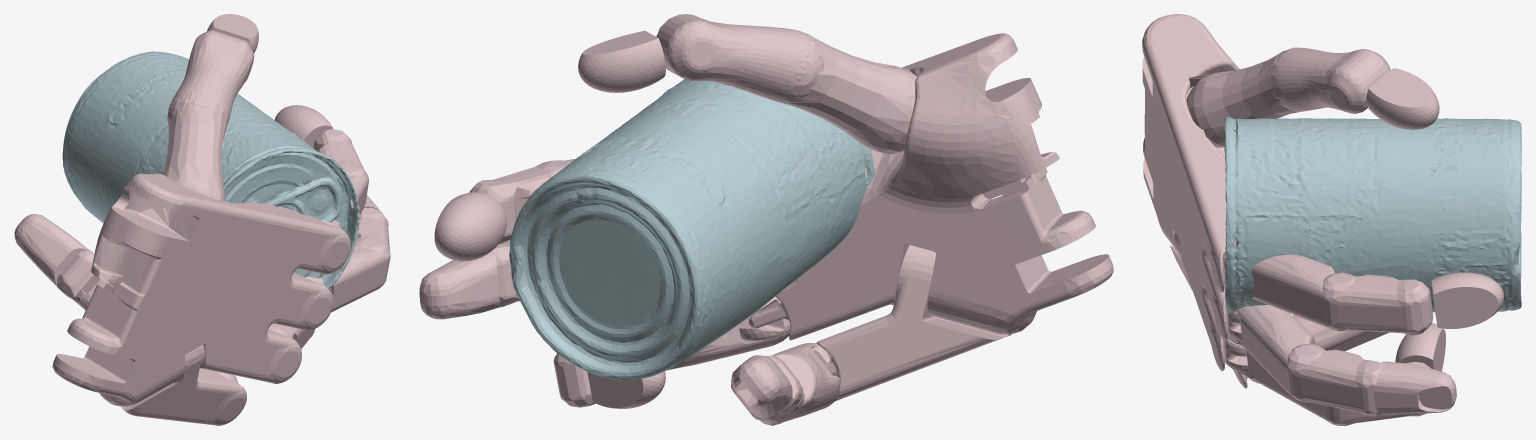
Rendered from grasp_9.glb.
The picture shows the model from 3 angles, left to right: view 1: azimuth 30°, elevation 25°; view 2: azimuth 150°, elevation 25°; view 3: azimuth 270°, elevation 25°; orthographic projection. The views are drawn at different scales.
Parts seen in each view (by area): view 1: world; view 2: world; view 3: world.
Boxes of the visible parts, x1,y1,x2,y2 form: world: (14, 14, 390, 425); world: (419, 14, 1113, 425); world: (1142, 14, 1521, 425).
Size of the model in its own units: 0.1793 by 0.1352 by 0.1298.
